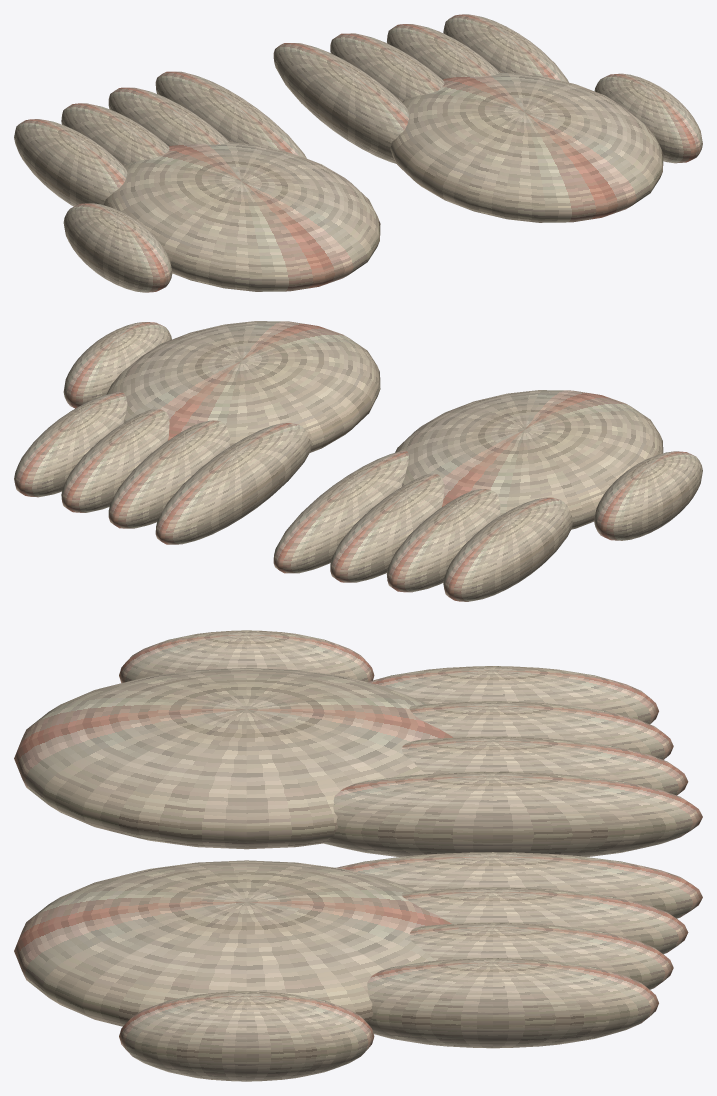
The model's file is work-gloves-pair.glb.
The picture shows the model from 3 angles, top to bottom: view 1: azimuth 30°, elevation 25°; view 2: azimuth 150°, elevation 25°; view 3: azimuth 270°, elevation 25°; orthographic projection. The views are drawn at different scales.
Visible parts, largest first — view 1: palm (×2), finger (×8), thumb (×2); view 2: finger (×8), palm (×2), thumb (×2); view 3: palm (×2), finger (×8), thumb (×2).
Part boxes in pixels (<box>): palm (×2): <box>104,73,663,291</box>; finger (×8): <box>14,14,568,206</box>; thumb (×2): <box>63,73,702,292</box>; finger (×8): <box>14,392,572,601</box>; palm (×2): <box>106,321,663,529</box>; thumb (×2): <box>63,322,702,540</box>; palm (×2): <box>14,668,452,1026</box>; finger (×8): <box>323,666,702,1048</box>; thumb (×2): <box>119,630,374,1081</box>.
Bounding box in the file's own units: 0.26 × 0.0297 × 0.1888.
Materials: 1 (1 with a texture image).
